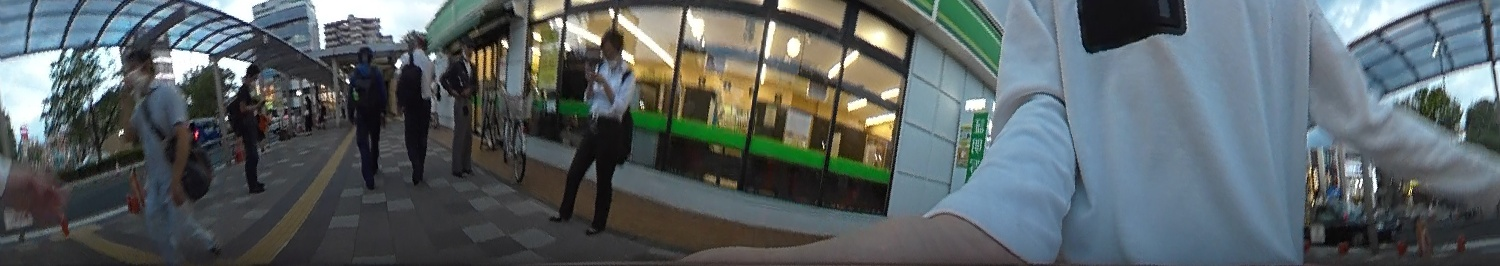difficult_person: (296, 88, 314, 130), (313, 96, 328, 128)
person: (96, 41, 233, 266), (545, 21, 649, 240), (392, 37, 443, 187), (226, 62, 281, 197), (442, 38, 488, 179), (350, 39, 391, 189)
